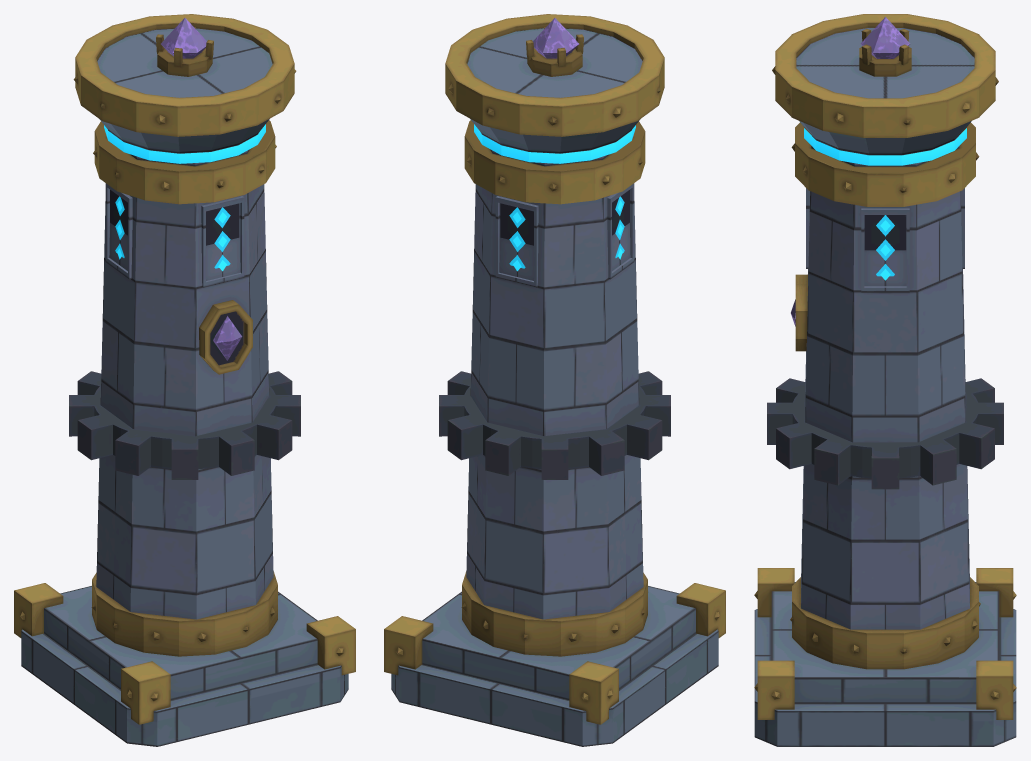
File: rune_pillar.glb
3 views of the same model, side by side, from view 1: azimuth 30°, elevation 25°; view 2: azimuth 150°, elevation 25°; view 3: azimuth 270°, elevation 25° (orthographic). The views are drawn at different scales.
Parts seen in each view (by area): view 1: stone_shaft, brass_trim, stone_plinth, iron_cog, stone_capital, lodestone_inset, glow_band, glow_runes; view 2: stone_shaft, brass_trim, stone_plinth, iron_cog, stone_capital, glow_band, lodestone_inset, glow_runes; view 3: stone_shaft, brass_trim, stone_plinth, iron_cog, stone_capital, glow_band, lodestone_inset, glow_runes.
Part boxes in pixels (x1,y1,x2,y2): stone_shaft: (96, 130, 273, 619); brass_trim: (14, 14, 355, 724); stone_plinth: (21, 586, 348, 746); iron_cog: (69, 371, 300, 479); stone_capital: (97, 28, 272, 153); lodestone_inset: (161, 18, 242, 360); glow_band: (104, 124, 265, 163); glow_runes: (115, 196, 230, 271); stone_shaft: (466, 130, 643, 619); brass_trim: (384, 14, 725, 724); stone_plinth: (391, 586, 718, 746); iron_cog: (439, 371, 670, 479); stone_capital: (467, 28, 642, 153); glow_band: (474, 124, 635, 163); lodestone_inset: (533, 18, 578, 58); glow_runes: (509, 196, 624, 271); stone_shaft: (801, 135, 969, 629); brass_trim: (754, 14, 1016, 719); stone_plinth: (754, 582, 1016, 746); iron_cog: (767, 378, 1003, 489); stone_capital: (796, 28, 974, 155); glow_band: (804, 128, 966, 165); lodestone_inset: (791, 17, 910, 326); glow_runes: (876, 215, 894, 280).
Size of the model in its own units: 0.924 by 2.62 by 0.924.
5 materials, 4 textured.
